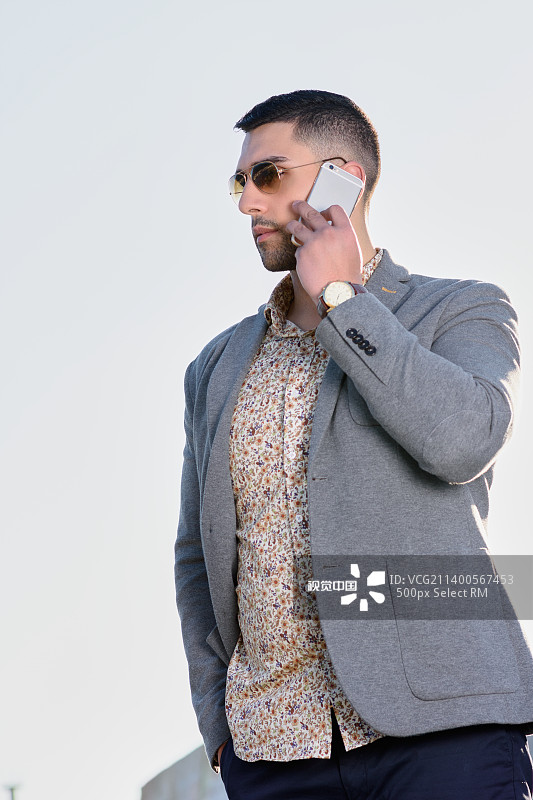calling: (270, 169, 407, 331)
